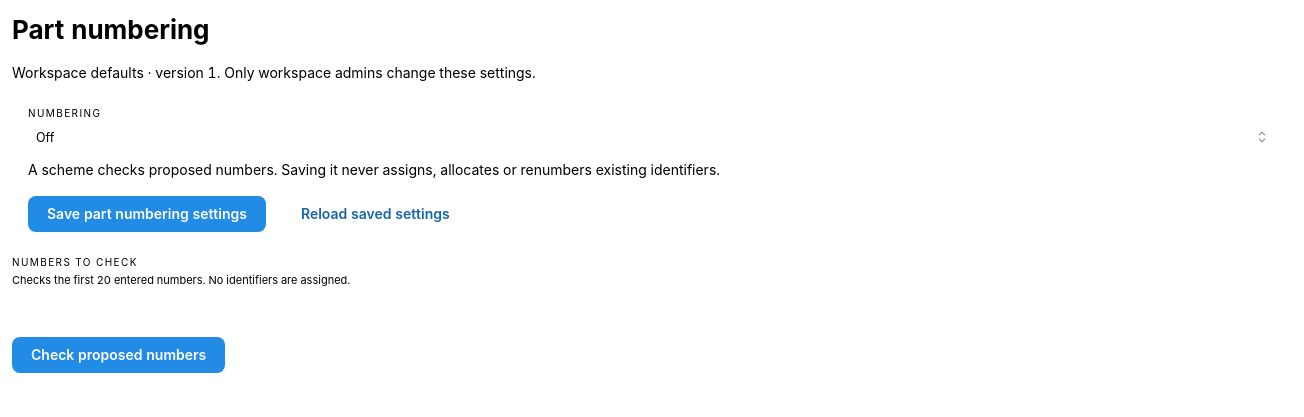
Test case: numbering starts off and checking a sample never saves or assigns
Expected: the dropdown labelled "Numbering" holds "Off", [28,124,1276,150]
Step 1. Click the button "Check proposed numbers" → click(119, 355), box [12,337,225,373]
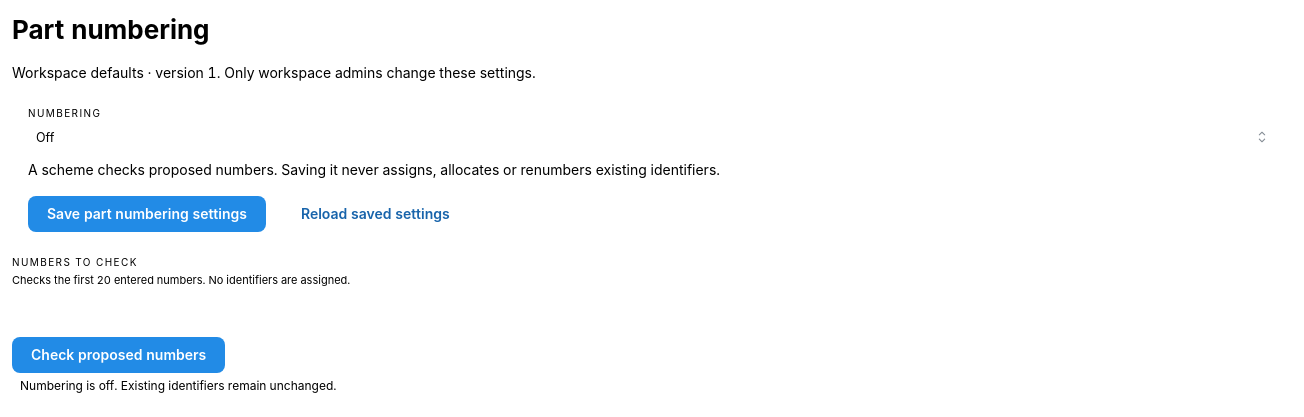
Expected: the text "Numbering is off. Existing identifiers remain unchanged." is shown, [12,373,1292,400]
